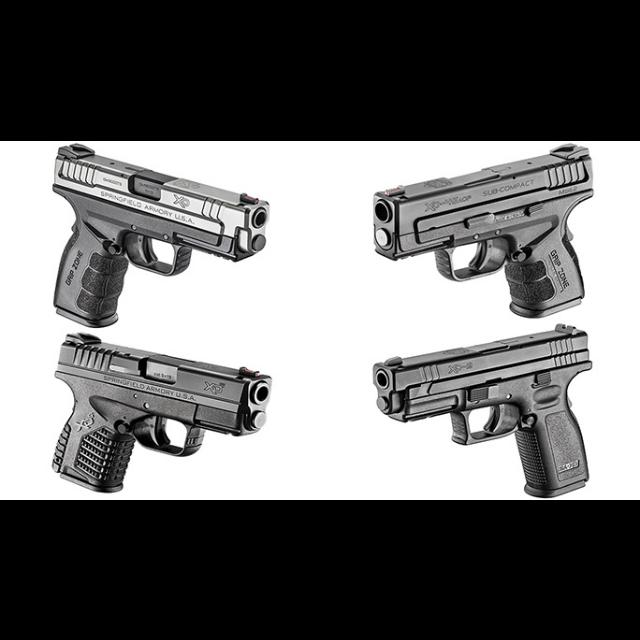handgun: (49, 140, 274, 330), (369, 320, 595, 500), (371, 140, 595, 318), (49, 330, 275, 498)
